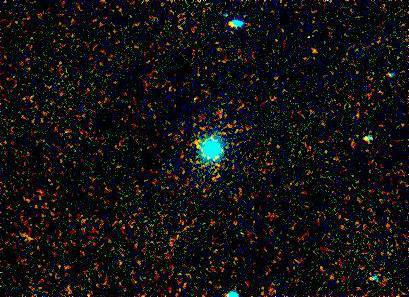star: (181, 128, 211, 158)
